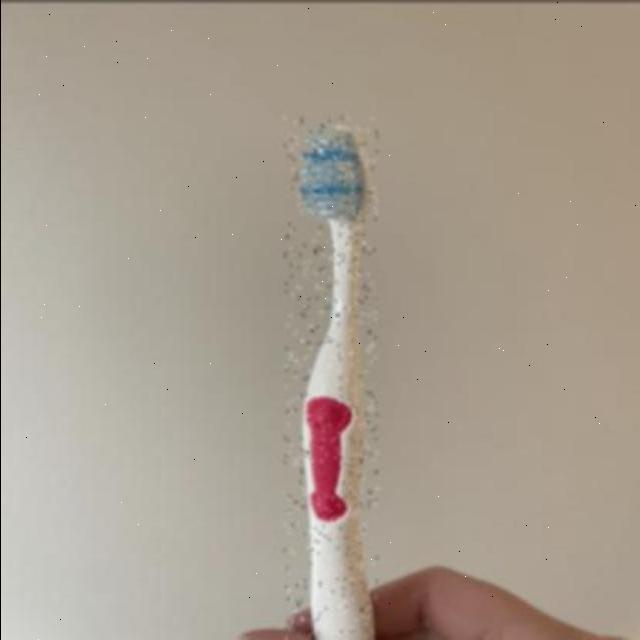toothbrush: (284, 116, 376, 640)
